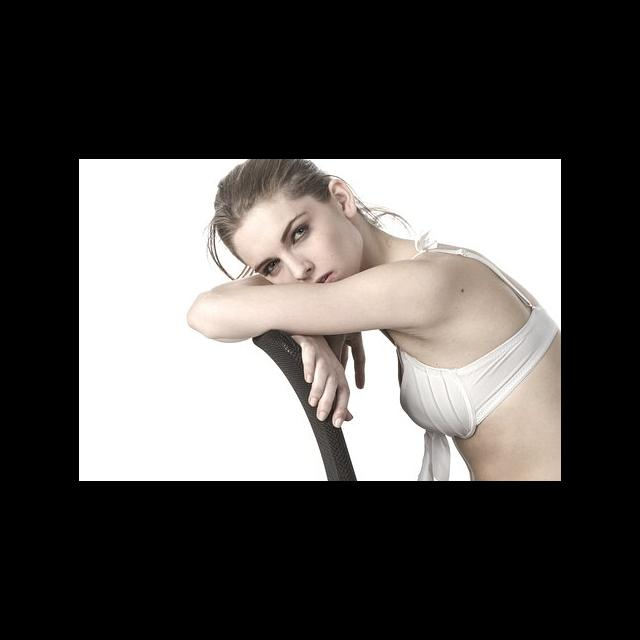female: (180, 161, 385, 299)
